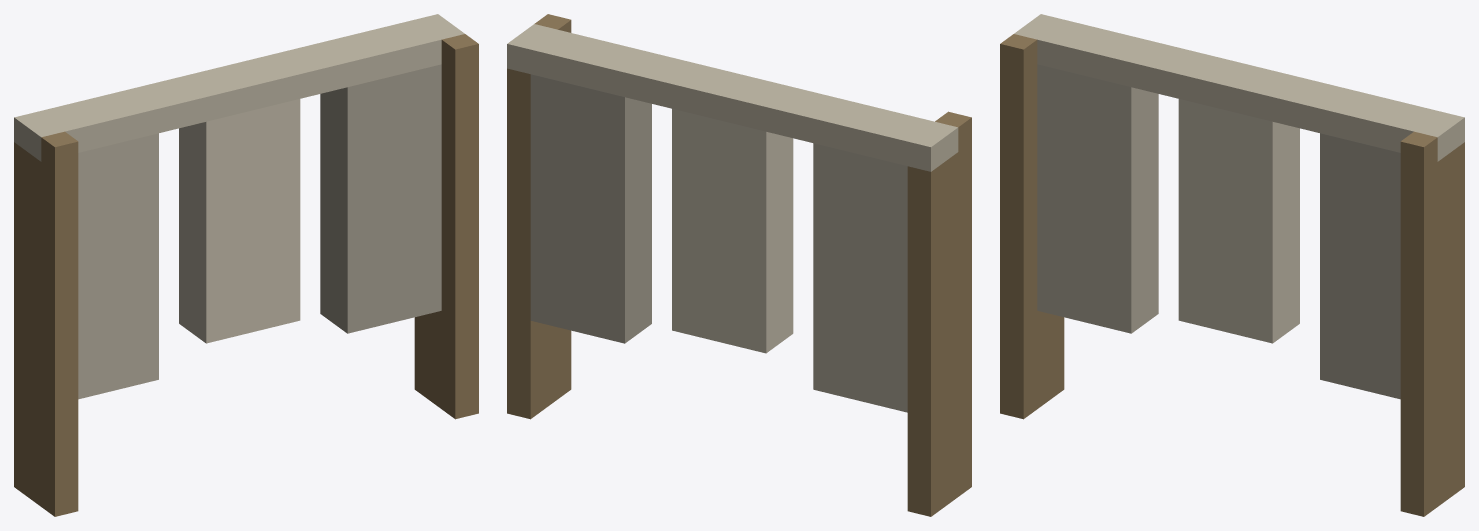
File: tendedero_03.glb
3 views of the same model, side by side, from view 1: azimuth 30°, elevation 25°; view 2: azimuth 150°, elevation 25°; view 3: azimuth 330°, elevation 25° (orthographic).
Parts seen in each view (by area): view 1: tendedero_03; view 2: tendedero_03; view 3: tendedero_03.
Boxes of the visible parts, x1,y1,x2,y2 form: tendedero_03: (14,14,478,516); tendedero_03: (507,14,971,516); tendedero_03: (1000,14,1464,516).
Size of the model in its own units: 1.8 by 1.5 by 0.3.
